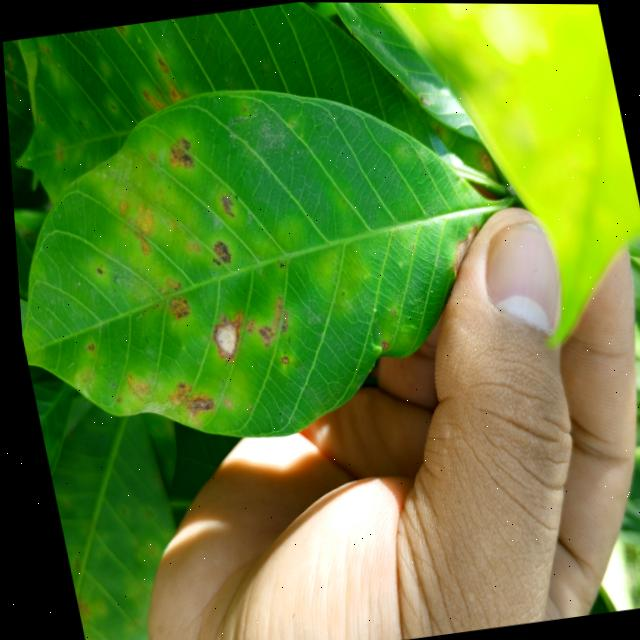Colletotrichum: (375, 341, 384, 350), (276, 355, 284, 365), (275, 263, 279, 267)
Leaf-Blight: (441, 224, 484, 273), (208, 324, 237, 356)
